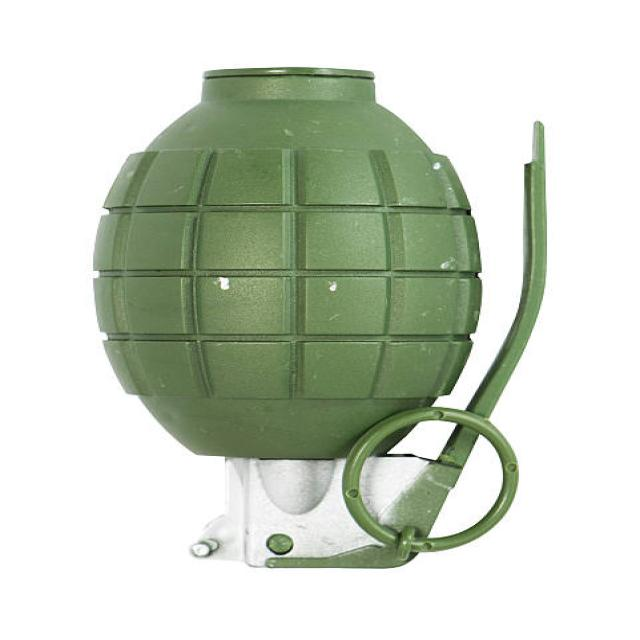grenade: (81, 62, 572, 574)
